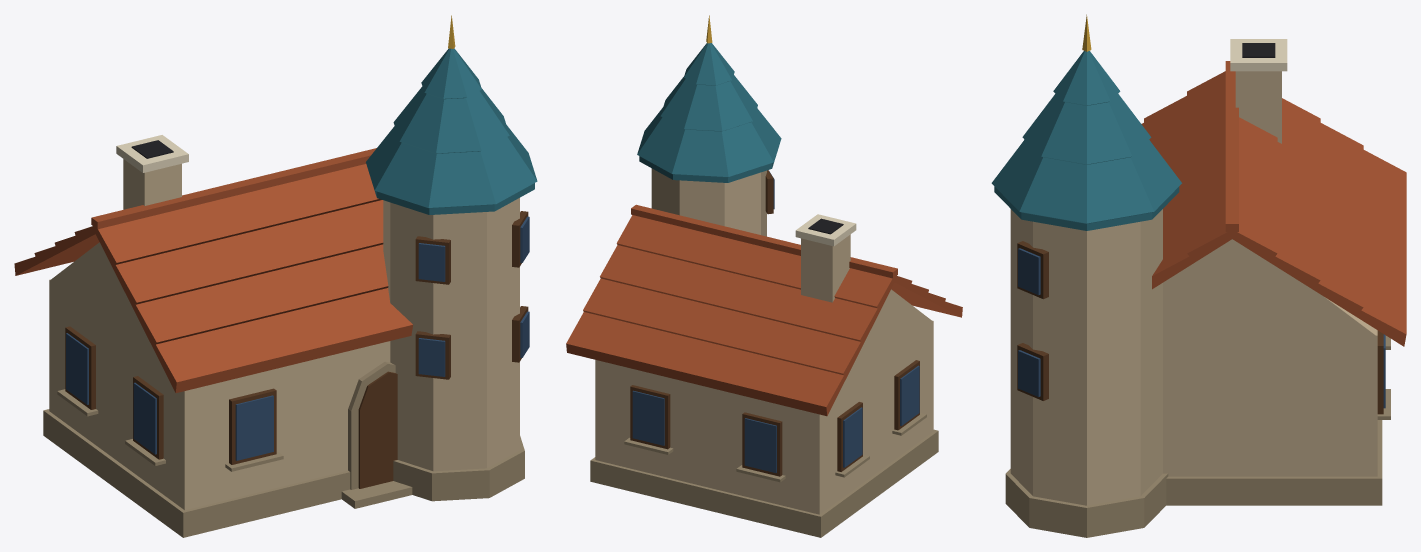
File: House_06_TurretHouse.fbx
3 renders of one model, left to right at view 1: azimuth 30°, elevation 25°; view 2: azimuth 150°, elevation 25°; view 3: azimuth 270°, elevation 25°, orthographic. The views are drawn at different scales.
Visible parts, largest first — view 1: House_06_TurretHouse; view 2: House_06_TurretHouse; view 3: House_06_TurretHouse.
Boxes of the visible parts, <box> form: House_06_TurretHouse: <box>14,15,537,537</box>; House_06_TurretHouse: <box>566,15,962,537</box>; House_06_TurretHouse: <box>991,14,1406,537</box>.
Bounding box in the file's own units: 6.86 × 8.17 × 6.28.
